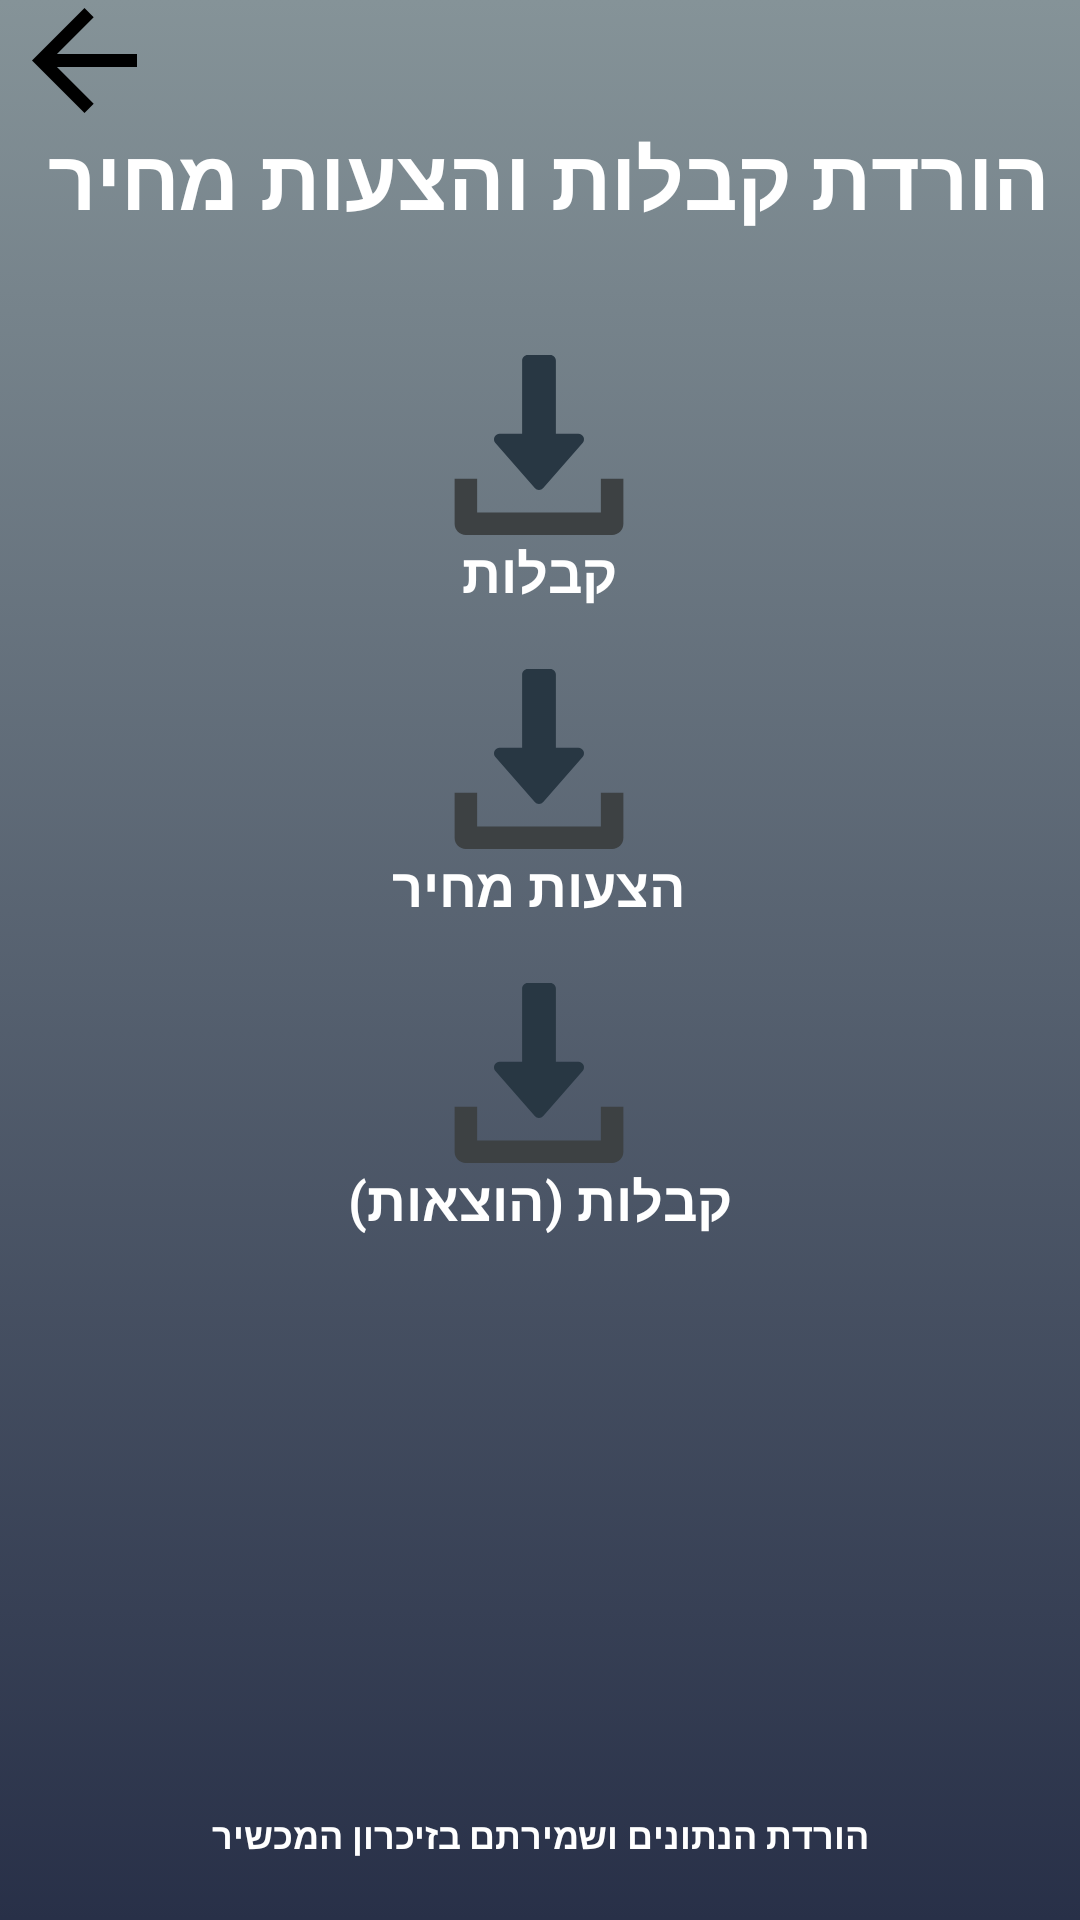

Icon click points for this 1080 x 1920 phone screenshot, format point (x, y):
file download: point (539, 445), point (539, 759), point (539, 1073)
